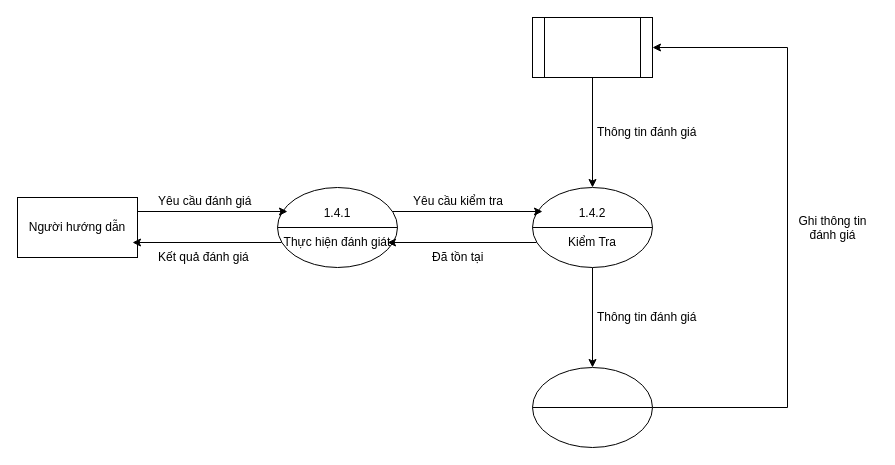
This 895x465 diagram has some shape labels left out. Here are the shapes that lost their labels. From the top down, the centre of each, then its label:
At point (592, 47): "Quản lý đăng ký".
At point (592, 407): "1.4.3 đánh giá".
